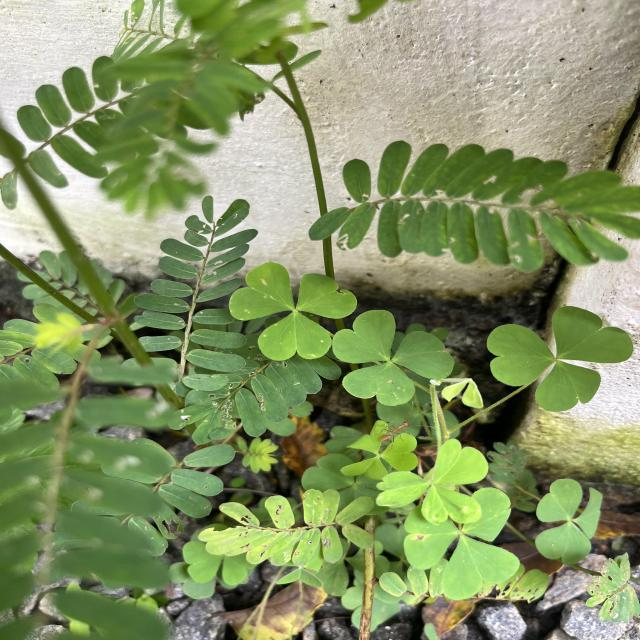Oxalis corniculata: (484, 304, 634, 413), (402, 486, 521, 601), (228, 261, 358, 362), (332, 308, 456, 408), (374, 438, 490, 526), (534, 478, 603, 566)
